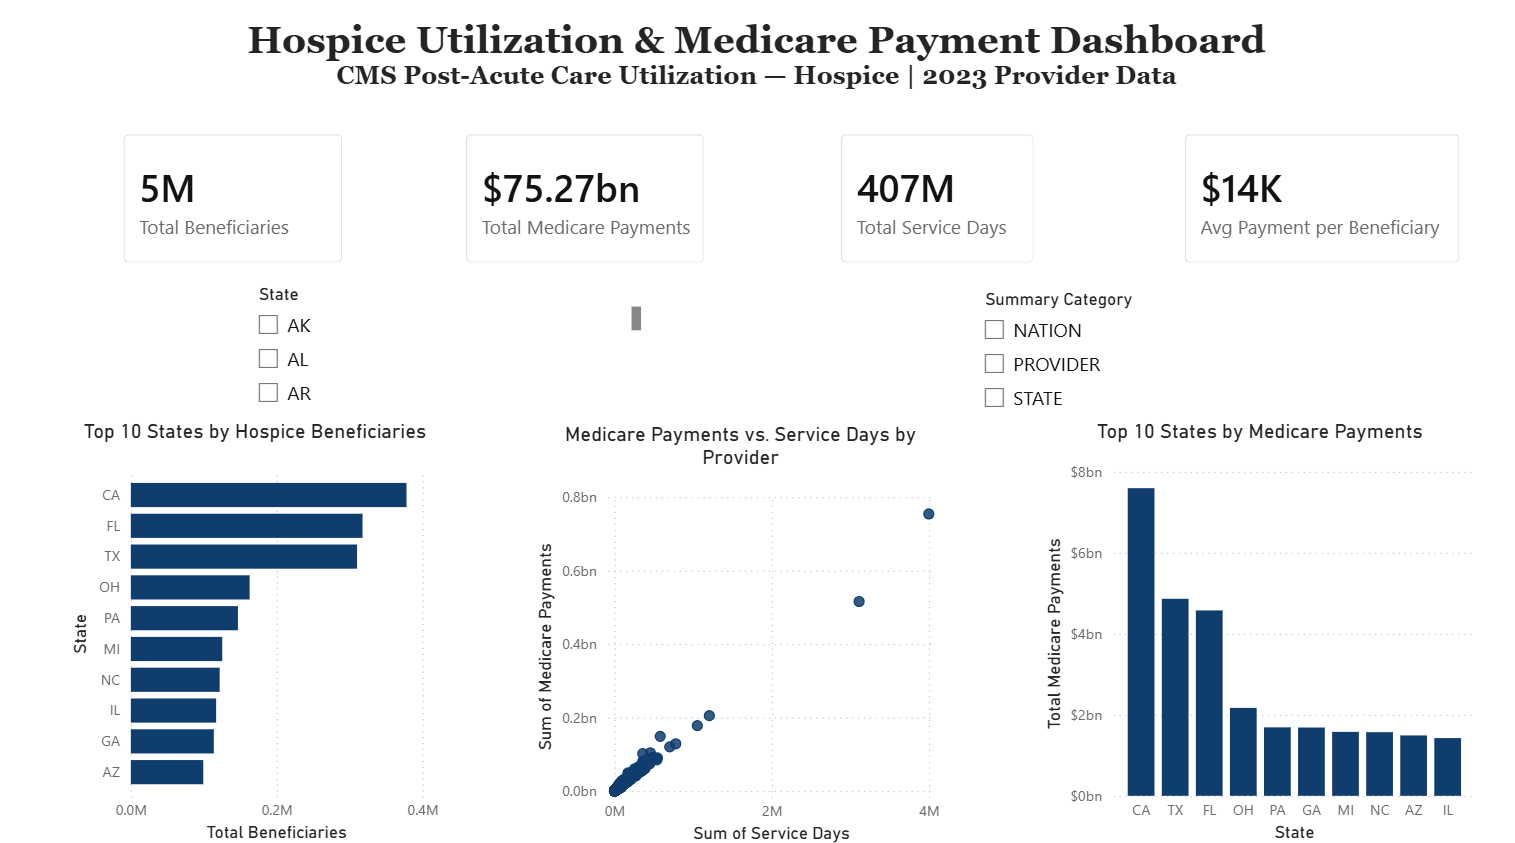

Layout of this report page (visuals, bound fields, positions):
{"tool":"powerbi","page":{"name":"Page 1","canvas":[1280,720],"ordinal":0},"visuals":[{"type":"cardVisual","fields":{"Data":["RY_2025_RY_25_PAC_PUF_HOS_2023_main_final_unformatted.Total Beneficiaries"]},"box":[90.6,102.1,218.5,142.3],"z":0},{"type":"cardVisual","fields":{"Data":["RY_2025_RY_25_PAC_PUF_HOS_2023_main_final_unformatted.Total Medicare Payments"]},"box":[378.1,102.1,234.3,142.3],"z":1000},{"type":"cardVisual","fields":{"Data":["RY_2025_RY_25_PAC_PUF_HOS_2023_main_final_unformatted.Total Service Days"]},"box":[694.3,102.1,196.9,142.3],"z":2000},{"type":"cardVisual","fields":{"Data":["RY_2025_RY_25_PAC_PUF_HOS_2023_main_final_unformatted.Avg Payment per Beneficiary"]},"box":[983.3,102.1,266,142.3],"z":3000},{"type":"clusteredBarChart","title":"Top 10 States by Hospice Beneficiaries","fields":{"Category":["RY_2025_RY_25_PAC_PUF_HOS_2023_main_final_unformatted.State"],"Y":["RY_2025_RY_25_PAC_PUF_HOS_2023_main_final_unformatted.Total Beneficiaries"]},"box":[58.3,359,320.2,360.5],"z":4000},{"type":"scatterChart","title":"Medicare Payments vs. Service Days by Provider","fields":{"X":["Sum(RY_2025_RY_25_PAC_PUF_HOS_2023_main_final_unformatted.Service Days)"],"Y":["Sum(RY_2025_RY_25_PAC_PUF_HOS_2023_main_final_unformatted.Medicare Payments)"],"Category":["RY_2025_RY_25_PAC_PUF_HOS_2023_main_final_unformatted.Provider Name"]},"box":[448.8,360.5,354.6,359],"z":5000},{"type":"clusteredColumnChart","title":"Top 10 States by Medicare Payments","fields":{"Category":["RY_2025_RY_25_PAC_PUF_HOS_2023_main_final_unformatted.State"],"Y":["RY_2025_RY_25_PAC_PUF_HOS_2023_main_final_unformatted.Total Medicare Payments"]},"box":[876.7,359,372.5,360.5],"z":6000},{"type":"slicer","fields":{"Values":["RY_2025_RY_25_PAC_PUF_HOS_2023_main_final_unformatted.State"]},"box":[208.4,240.1,339.3,113.6],"z":7000},{"type":"slicer","fields":{"Values":["RY_2025_RY_25_PAC_PUF_HOS_2023_main_final_unformatted.Summary Category"]},"box":[819.4,244.4,297.6,115],"z":8000},{"type":"textbox","box":[199.8,15.8,880,76.2],"z":9000}]}

Visuals, with their boxes in screenshot pixels (x1, y1, x2, y2), scaled from the page's 1280x720 canvas onto the 1515x843 screenshot:
cardVisual - RY_2025_RY_25_PAC_PUF_HOS_2023_main_final_unformatted.Total Beneficiaries: rect(107, 120, 366, 286)
cardVisual - RY_2025_RY_25_PAC_PUF_HOS_2023_main_final_unformatted.Total Medicare Payments: rect(448, 120, 725, 286)
cardVisual - RY_2025_RY_25_PAC_PUF_HOS_2023_main_final_unformatted.Total Service Days: rect(822, 120, 1055, 286)
cardVisual - RY_2025_RY_25_PAC_PUF_HOS_2023_main_final_unformatted.Avg Payment per Beneficiary: rect(1164, 120, 1479, 286)
"Top 10 States by Hospice Beneficiaries" clusteredBarChart: rect(69, 420, 448, 842)
"Medicare Payments vs. Service Days by Provider" scatterChart: rect(531, 422, 951, 842)
"Top 10 States by Medicare Payments" clusteredColumnChart: rect(1038, 420, 1479, 842)
slicer - RY_2025_RY_25_PAC_PUF_HOS_2023_main_final_unformatted.State: rect(247, 281, 648, 414)
slicer - RY_2025_RY_25_PAC_PUF_HOS_2023_main_final_unformatted.Summary Category: rect(970, 286, 1322, 421)
textbox: rect(236, 18, 1278, 108)
